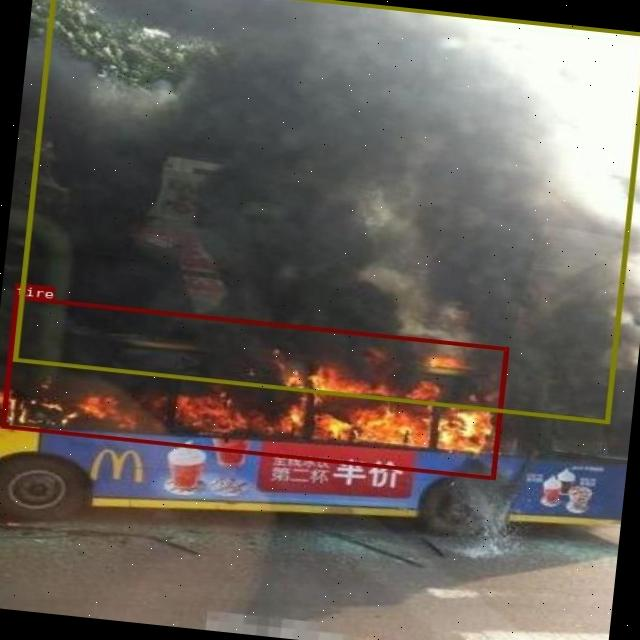fire: (0, 294, 508, 479)
smoke: (12, 0, 640, 423)
